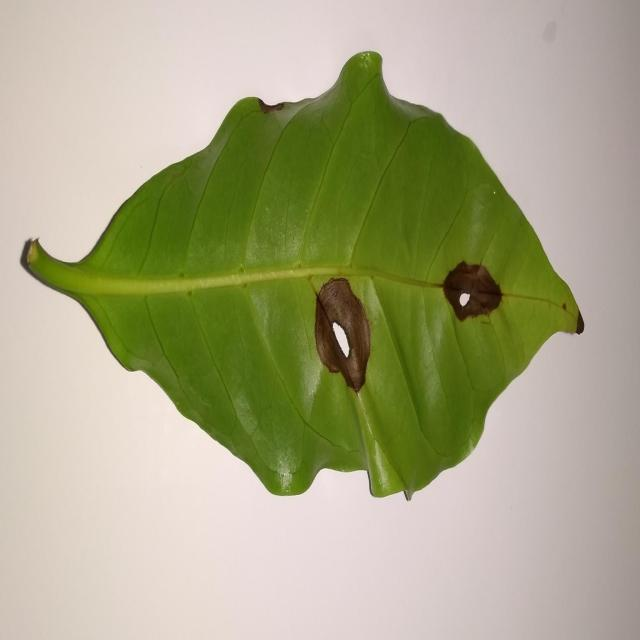phoma: (307, 269, 371, 393), (428, 220, 503, 321)
